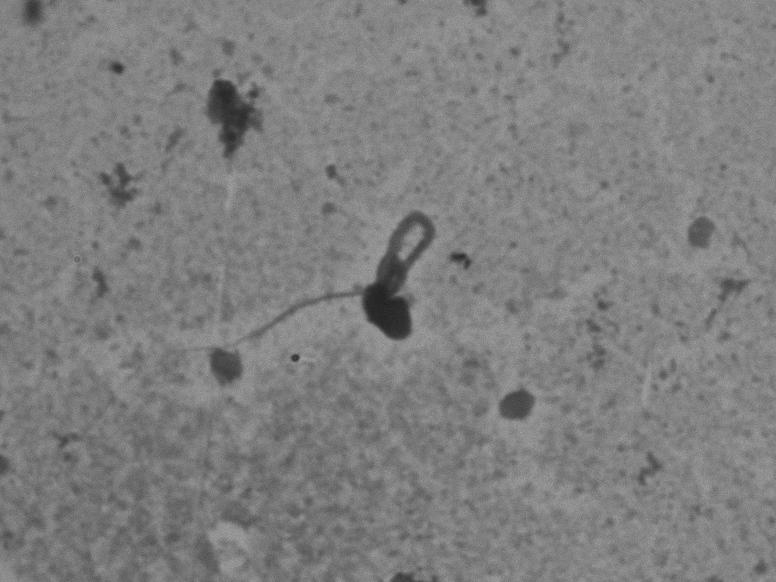Abnormal: (107, 206, 473, 383)
